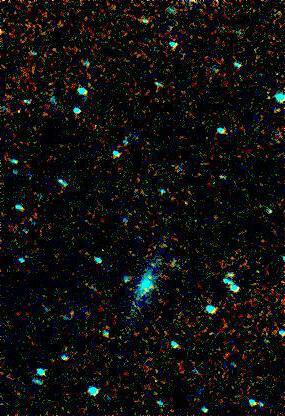star: (146, 250, 176, 280)
